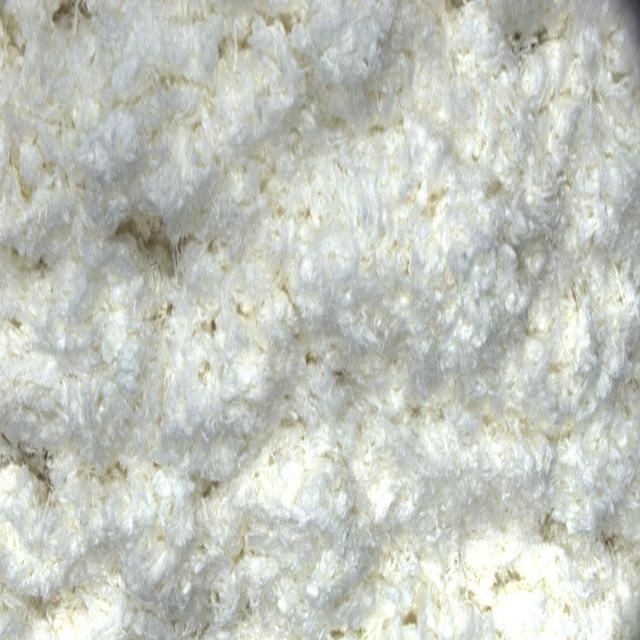dust: (509, 22, 552, 50)
